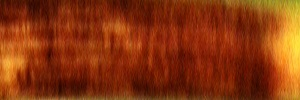RiceSheathBrownRot: (1, 1, 300, 100)
